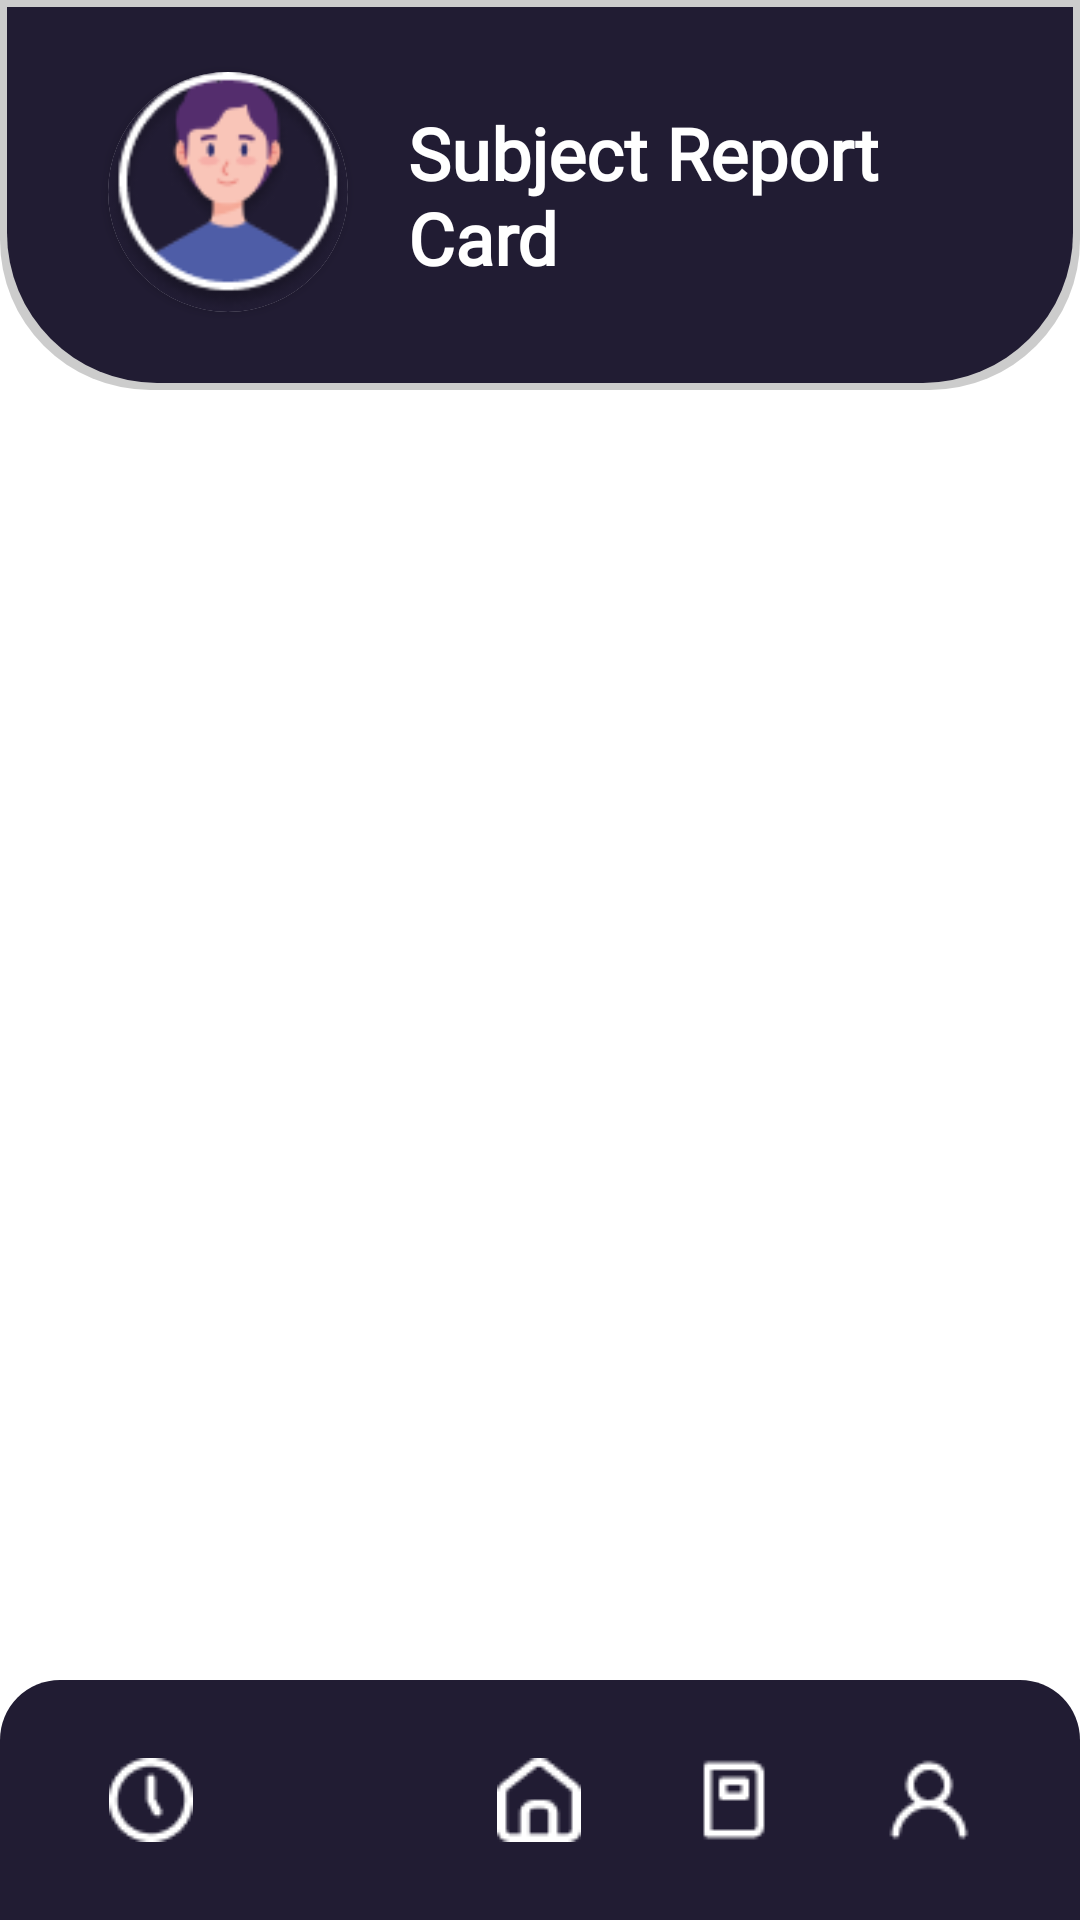

Icon click points for this 1080x1920 phone screenshot, format (x=x, y=y):
home: (x=539, y=1800)
pending: (x=151, y=1800)
profile: (x=228, y=192), (x=929, y=1800)
subjects: (x=734, y=1800)
